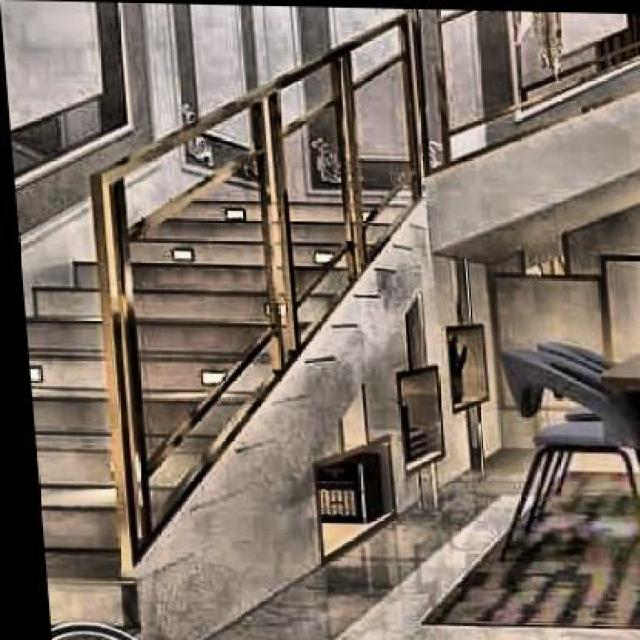stair: (11, 171, 464, 638)
